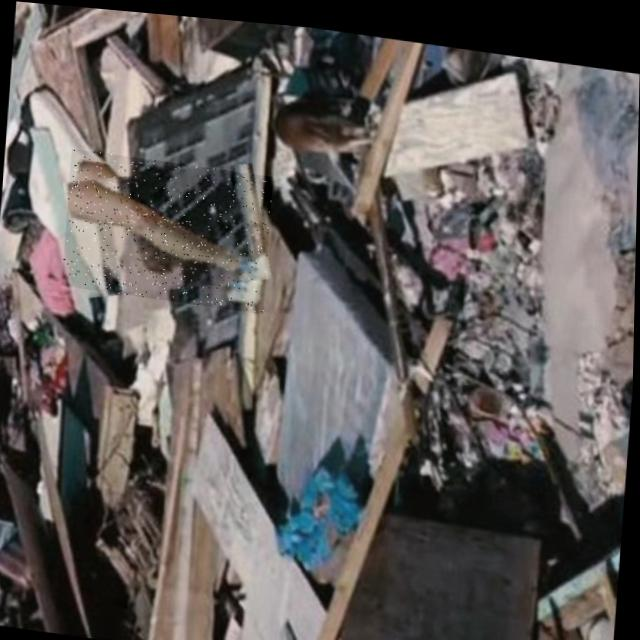Person in Rubble: (63, 146, 275, 308)
